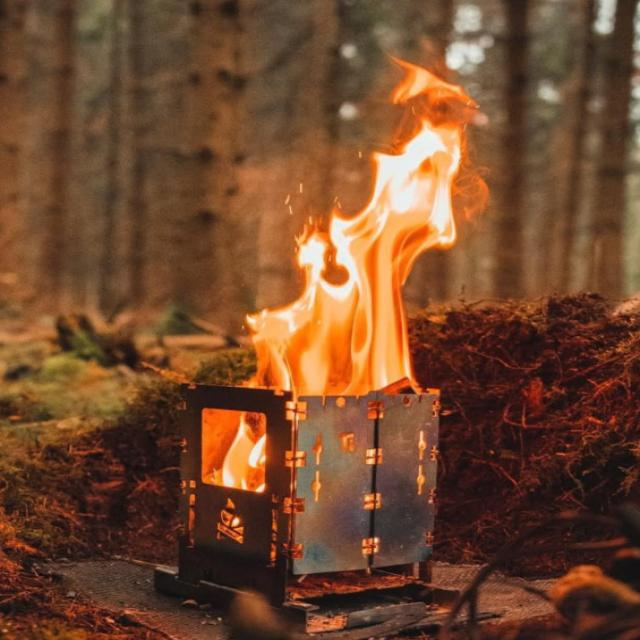fire: (245, 213, 414, 396), (368, 55, 487, 248), (200, 409, 264, 492)
